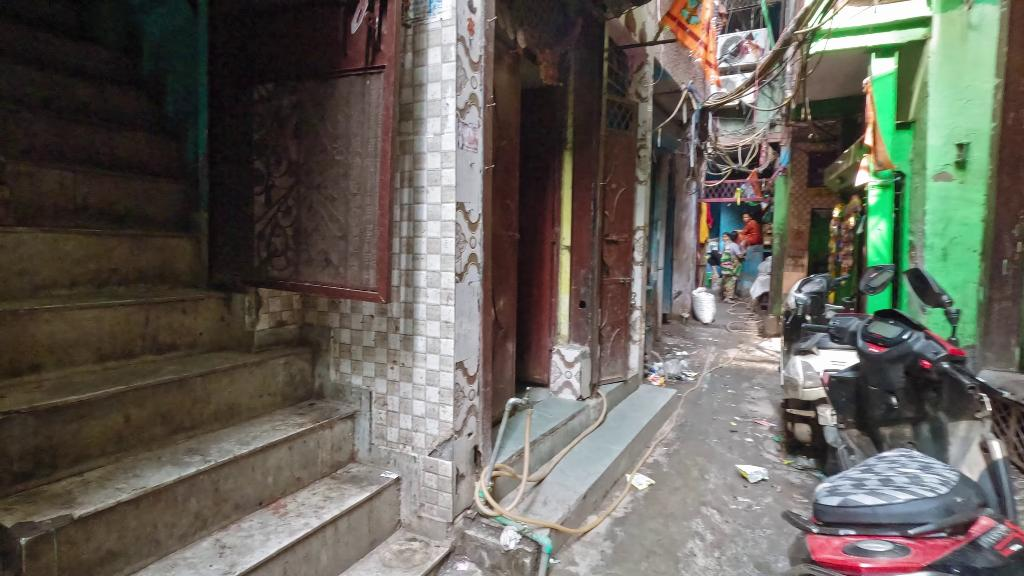garbage: (649, 356, 699, 384), (733, 460, 771, 485), (624, 467, 655, 494)
